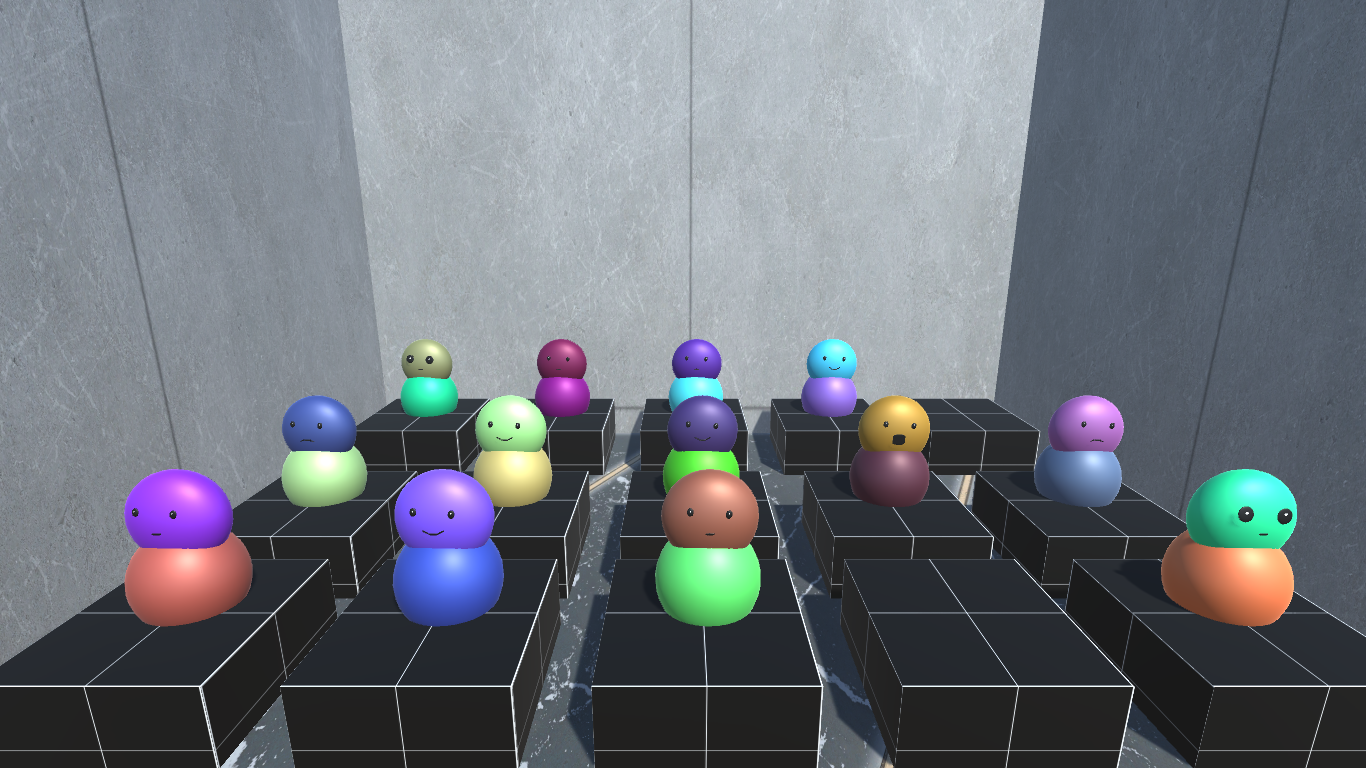blob_atento: (1178, 461, 1305, 551), (397, 335, 457, 380)
blob_feliz: (388, 466, 498, 556), (471, 391, 546, 456), (664, 397, 743, 455), (800, 336, 859, 380)
blob_normal: (120, 469, 232, 550), (658, 466, 762, 553), (668, 337, 724, 381), (535, 339, 592, 381)
blob_surpreso: (844, 394, 940, 457)
blob_triste: (1035, 394, 1130, 455), (275, 392, 357, 462)
